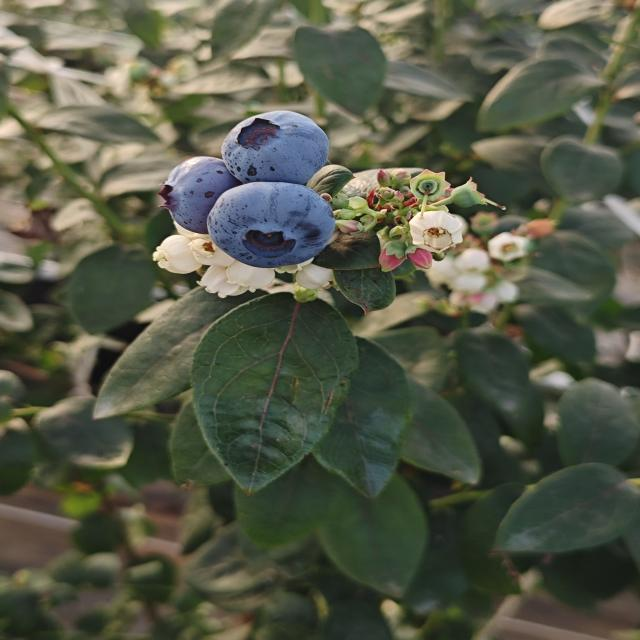ripe: (204, 180, 338, 270), (218, 109, 332, 185), (156, 155, 240, 236)
